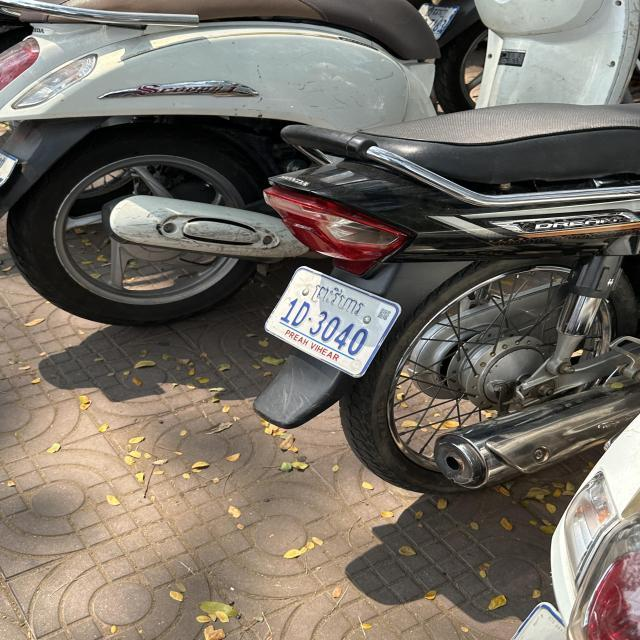Preah_Vihear: (310, 284, 365, 317)
